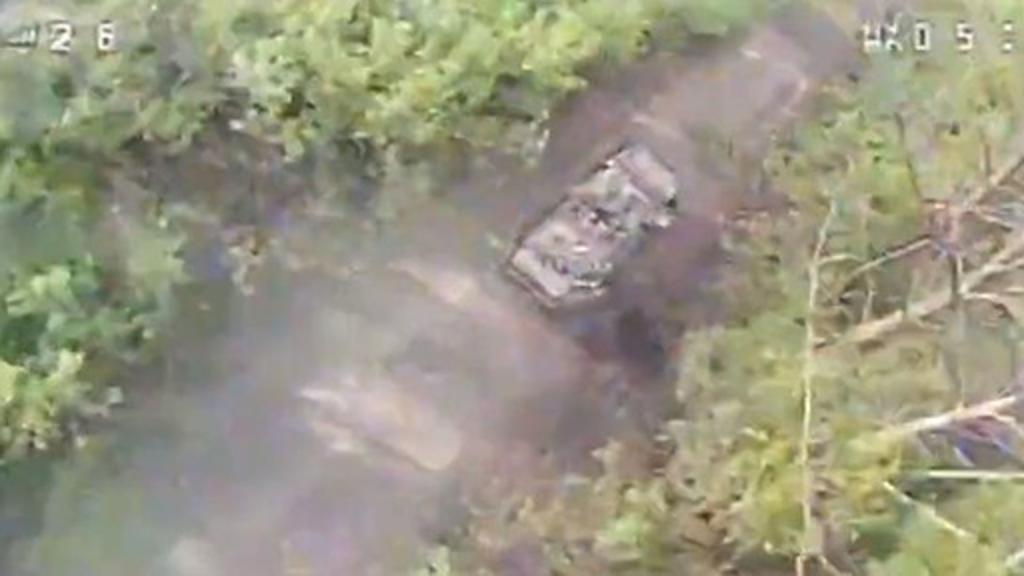APC-IFV: (486, 120, 690, 310)
